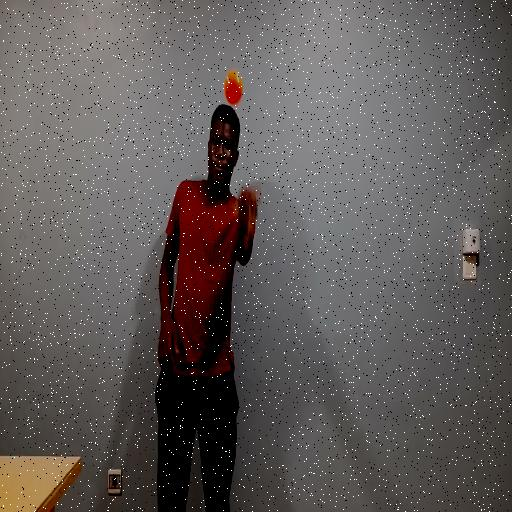plastic-ball: (216, 62, 248, 115)
